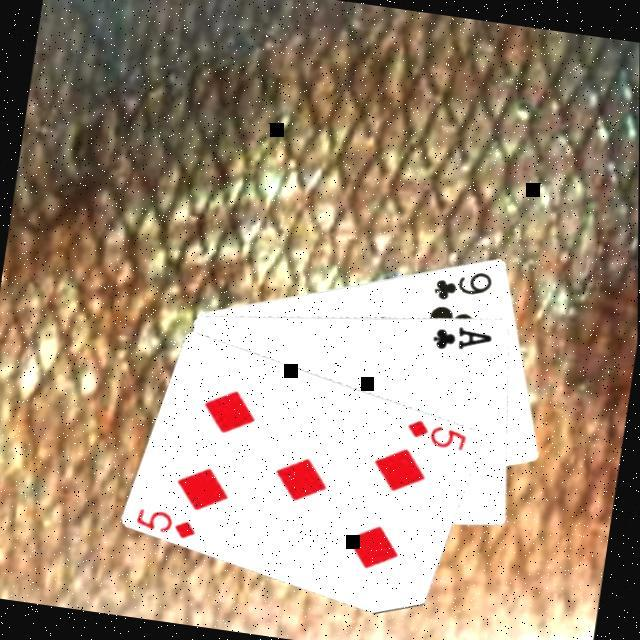5D: (400, 412, 470, 452), (131, 502, 201, 542)
9C: (428, 259, 496, 307)
AC: (428, 316, 496, 356)
